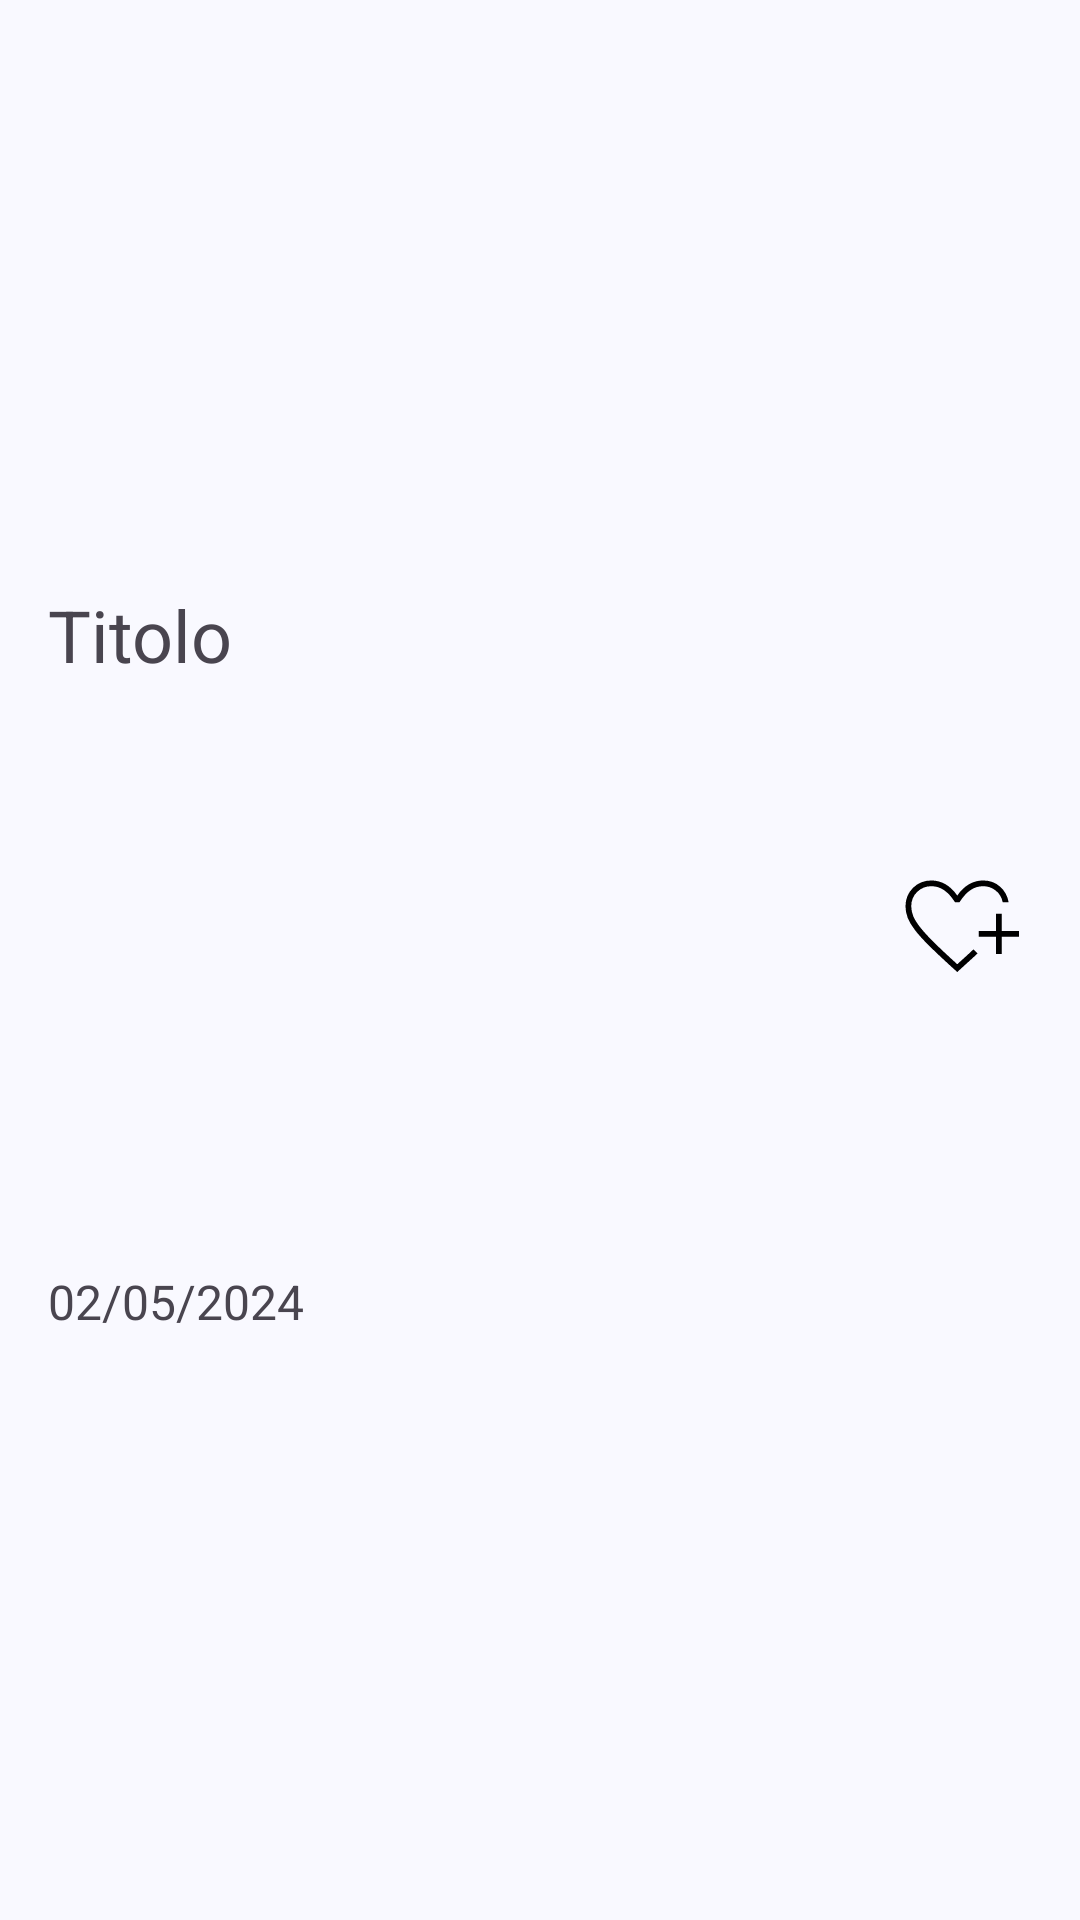

Locate icon controls on the screen. Image size 1080px×1920px, boxes as box(x1, y1, x2, y2).
heart plus: box(905, 880, 1019, 972)
